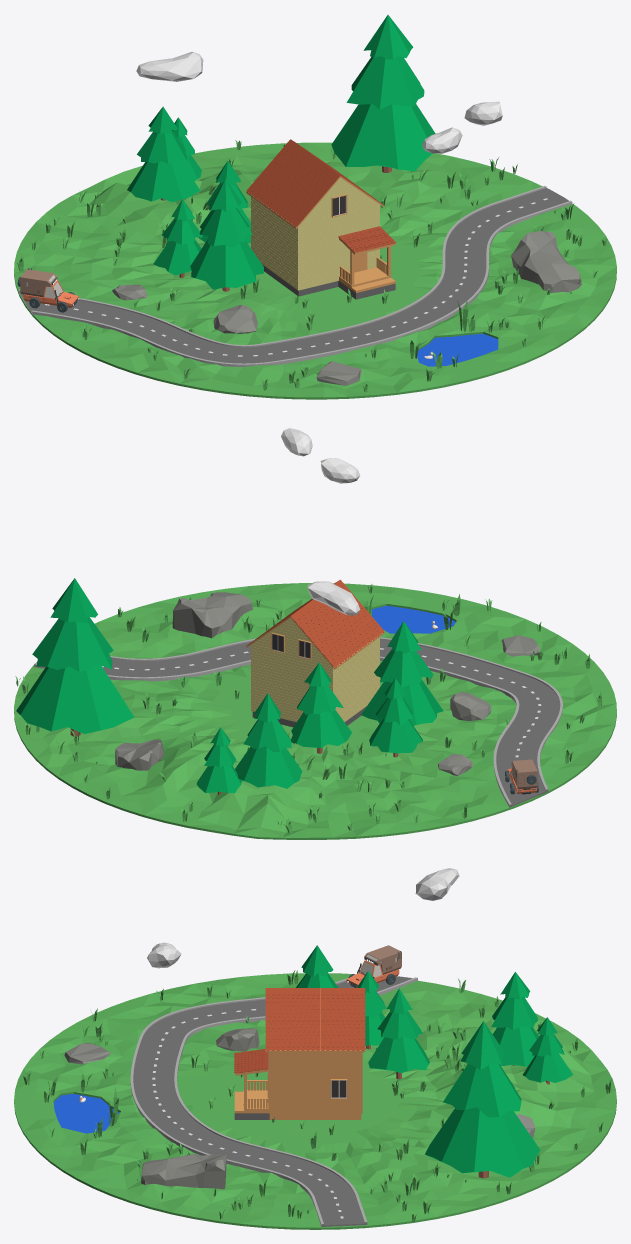
The model's file is House_impruvement.gltf.
3 renders of one model, top to bottom at view 1: azimuth 30°, elevation 25°; view 2: azimuth 150°, elevation 25°; view 3: azimuth 270°, elevation 25°, orthographic.
Visible parts, largest first — view 1: Grass.Floor, Road, Tree.003, Walls, Roof, Tree, Tree.004, base, Rock5, Tree.002, Cloud3, Rock2 (+6 smaller); view 2: Grass.Floor, Road, Tree.003, Walls, Roof, Tree, Tree.004, Tree.001, Rock5, Tree.002, Tree.006, Rock4 (+7 smaller); view 3: Grass.Floor, Road, Tree.003, base, Roof, Tree.001, Tree.004, Rock5, Tree.006, Tree.002, Tree, Cloud3 (+4 smaller).
Part boxes in pixels (x1=…): Grass.Floor: x1=14, y1=142, x2=616, y2=399; Road: x1=19, y1=186, x2=572, y2=366; Tree.003: x1=331, y1=15, x2=435, y2=172; Walls: x1=251, y1=178, x2=379, y2=290; Roof: x1=246, y1=139, x2=395, y2=252; Tree: x1=190, y1=179, x2=263, y2=291; Tree.004: x1=127, y1=106, x2=200, y2=202; base: x1=246, y1=176, x2=395, y2=299; Rock5: x1=511, y1=231, x2=581, y2=292; Tree.002: x1=153, y1=199, x2=202, y2=277; Cloud3: x1=136, y1=51, x2=203, y2=81; Rock2: x1=213, y1=305, x2=257, y2=333; Grass.Floor: x1=14, y1=583, x2=616, y2=839; Road: x1=34, y1=637, x2=562, y2=807; Tree.003: x1=16, y1=578, x2=134, y2=736; Walls: x1=251, y1=618, x2=379, y2=722; Roof: x1=247, y1=579, x2=384, y2=667; Tree: x1=361, y1=621, x2=443, y2=725; Tree.004: x1=235, y1=693, x2=302, y2=788; Tree.001: x1=291, y1=662, x2=351, y2=753; Rock5: x1=172, y1=592, x2=252, y2=638; Tree.002: x1=369, y1=678, x2=422, y2=757; Tree.006: x1=196, y1=727, x2=242, y2=794; Rock4: x1=115, y1=739, x2=164, y2=770; Grass.Floor: x1=14, y1=973, x2=616, y2=1229; Road: x1=130, y1=976, x2=417, y2=1226; Tree.003: x1=425, y1=1021, x2=540, y2=1178; base: x1=234, y1=988, x2=365, y2=1119; Roof: x1=234, y1=988, x2=365, y2=1073; Tree.001: x1=368, y1=988, x2=429, y2=1079; Tree.004: x1=491, y1=972, x2=538, y2=1066; Rock5: x1=141, y1=1153, x2=226, y2=1189; Tree.006: x1=522, y1=1017, x2=573, y2=1084; Tree.002: x1=357, y1=971, x2=386, y2=1049; Tree: x1=296, y1=945, x2=338, y2=987; Cloud3: x1=415, y1=868, x2=459, y2=900.
Size of the model in its own units: 26 by 10.17 by 26.
Materials: 25 (1 with a texture image).
